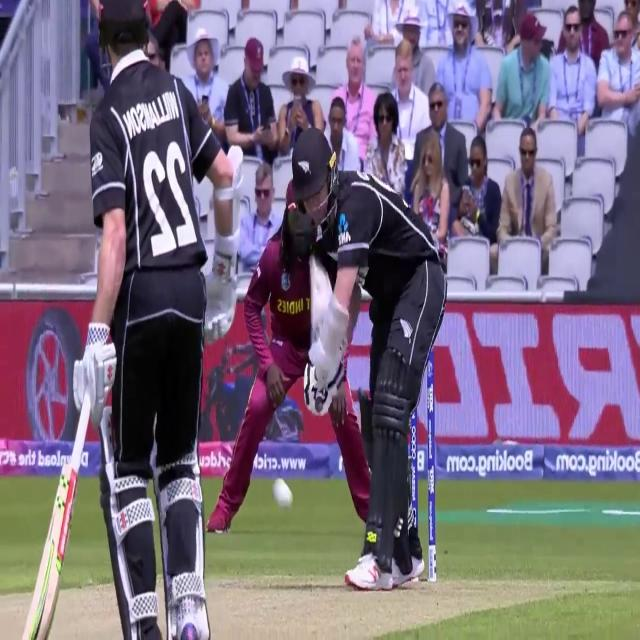ball: (268, 471, 298, 517)
